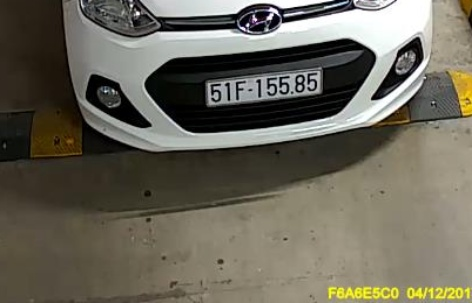plate: (202, 64, 328, 109)
